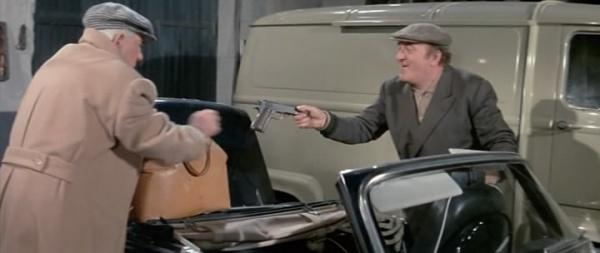Gun: (251, 99, 302, 133)
